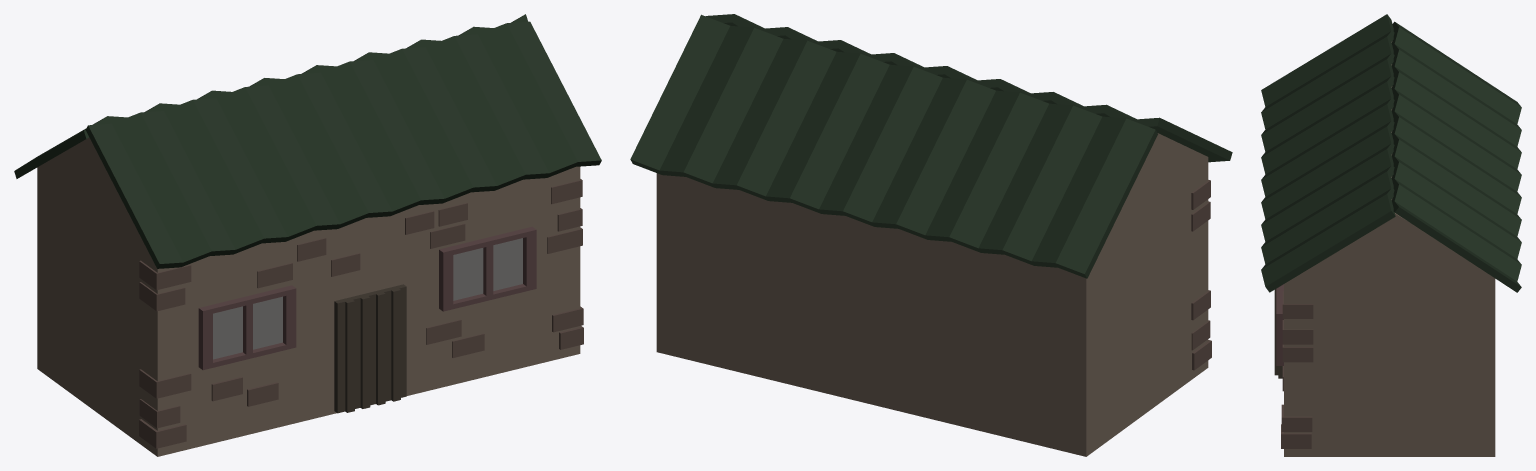
Rendered from WIDE HOUSE GREEN ROOF.fbx.
3 renders of one model, left to right at view 1: azimuth 30°, elevation 25°; view 2: azimuth 150°, elevation 25°; view 3: azimuth 270°, elevation 25°, orthographic. The views are drawn at different scales.
Parts seen in each view (by area): view 1: pCube1, pCube2, pCube4, pCube5, pCube6, pCube3, pCube9, pCube10, pCube7, pCube11, pCube8, pCube14 (+7 smaller); view 2: pCube1, pCube3, pCube2; view 3: pCube1, pCube2, pCube3, pCube6, pCube12, pCube15, pCube14, pCube13, pCube16, pCube4.
Part boxes in pixels (left/top/right/bottom): pCube1: left=37, top=137, right=580, bottom=456; pCube2: left=86, top=21, right=601, bottom=268; pCube4: left=334, top=284, right=406, bottom=413; pCube5: left=198, top=285, right=296, bottom=370; pCube6: left=439, top=226, right=536, bottom=311; pCube3: left=14, top=14, right=527, bottom=178; pCube9: left=139, top=369, right=191, bottom=398; pCube10: left=139, top=260, right=191, bottom=290; pCube7: left=139, top=419, right=186, bottom=448; pCube11: left=139, top=282, right=185, bottom=311; pCube8: left=139, top=399, right=180, bottom=428; pCube14: left=547, top=227, right=582, bottom=253; pCube1: left=656, top=133, right=1208, bottom=456; pCube3: left=630, top=14, right=1157, bottom=278; pCube2: left=706, top=14, right=1232, bottom=162; pCube1: left=1284, top=41, right=1495, bottom=456; pCube2: left=1261, top=14, right=1395, bottom=292; pCube3: left=1391, top=21, right=1521, bottom=292; pCube6: left=1276, top=284, right=1283, bottom=365; pCube12: left=1281, top=404, right=1312, bottom=431; pCube15: left=1282, top=320, right=1313, bottom=344; pCube14: left=1282, top=344, right=1313, bottom=362; pCube13: left=1281, top=424, right=1311, bottom=448; pCube16: left=1282, top=291, right=1313, bottom=318; pCube4: left=1274, top=289, right=1282, bottom=378.
Bounding box in the file's own units: 14.75 × 9.24 × 8.51.
